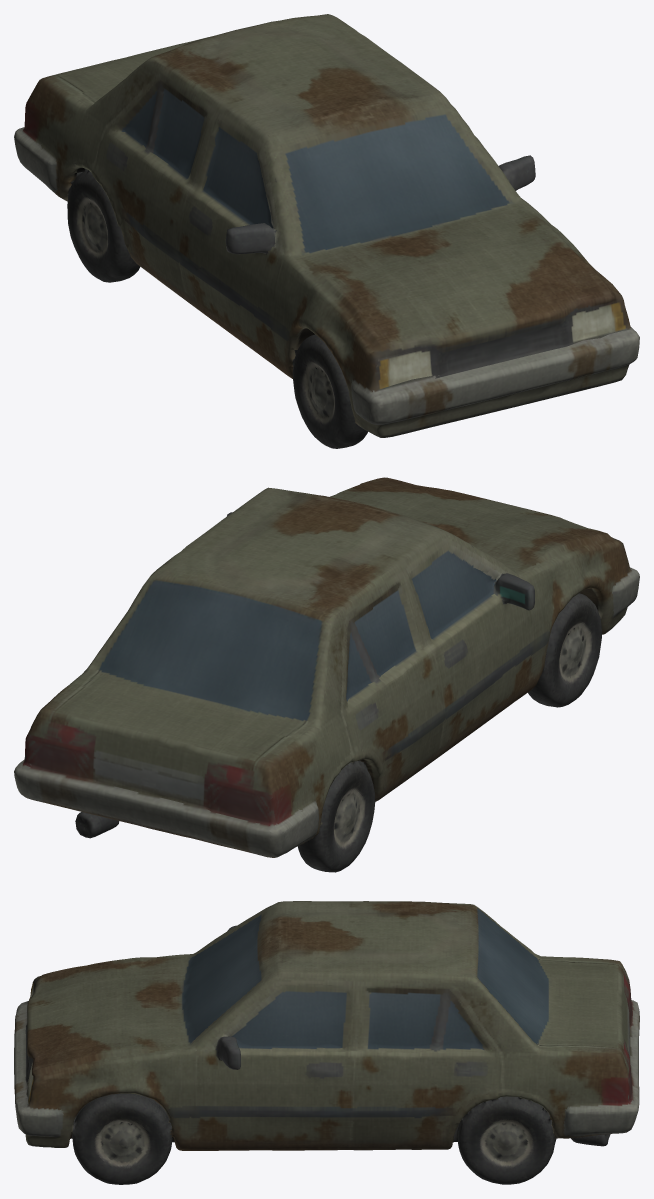
Rendered from raw.glb.
3 renders of one model, top to bottom at view 1: azimuth 30°, elevation 25°; view 2: azimuth 150°, elevation 25°; view 3: azimuth 270°, elevation 25°, orthographic. The views are drawn at different scales.
Size of the model in its own units: 0.4845 by 0.3595 by 1.01.
Materials: 1 (1 with a texture image).
